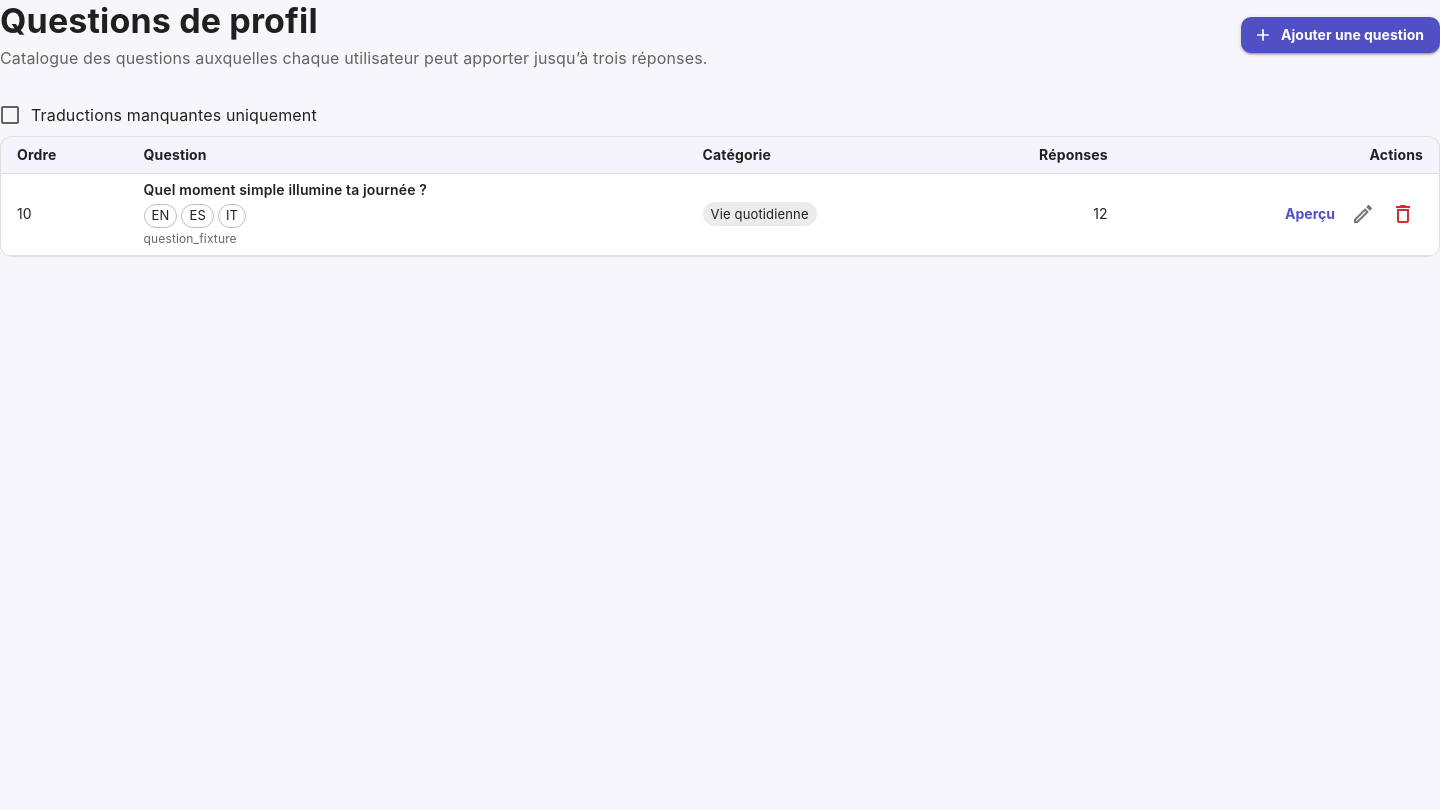
critical dashboard actions › shows the cascade impact before deleting a profile question
Click the button named "Supprimer Quel moment simple illumine ta journée ?". click: coordinates (1403, 214)
box: [1383,194,1423,234]
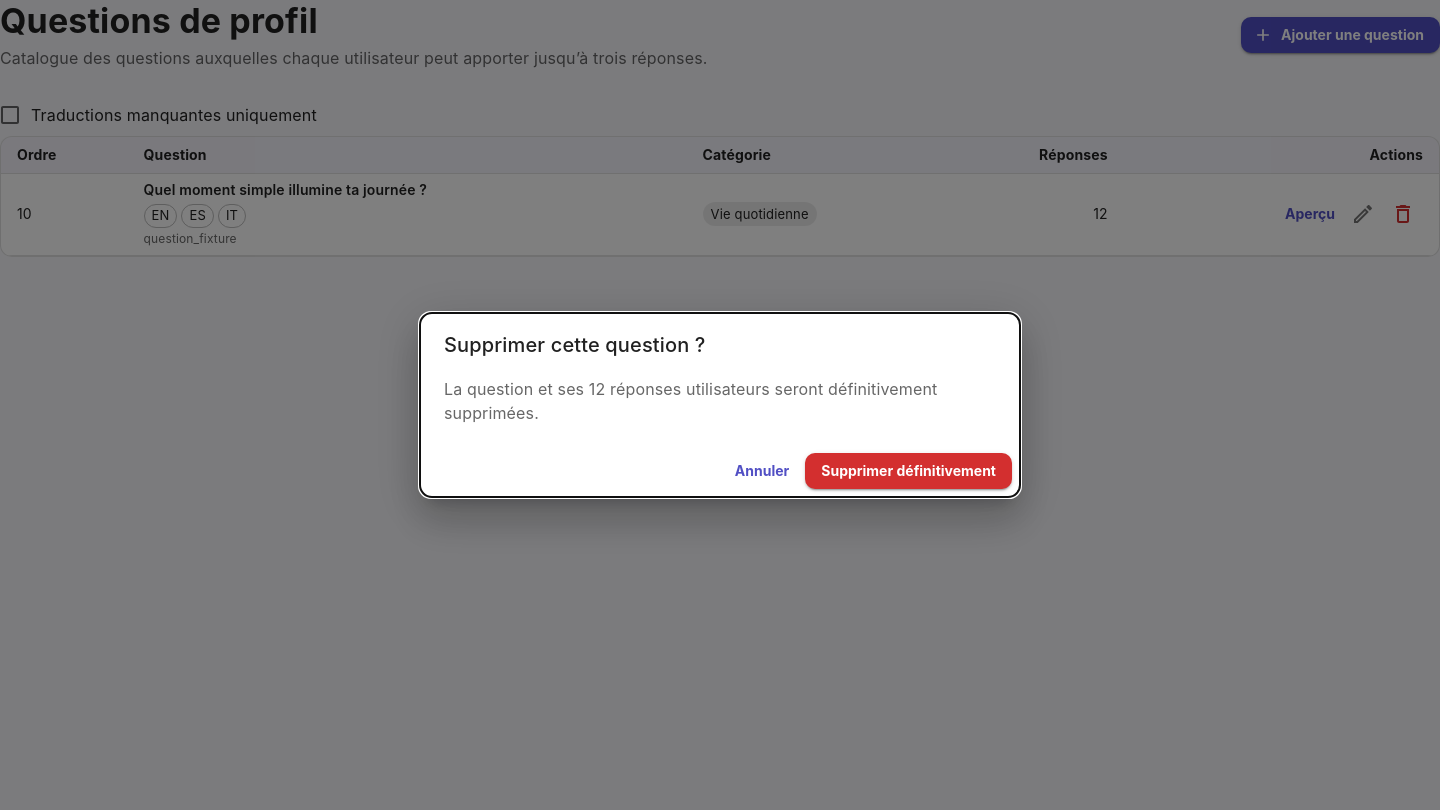
Result: the text "ses 12 réponses utilisateurs seront définitivement supprimées" is shown at [444,379,938,423]
Click the button "Supprimer définitivement". click: coordinates (909, 471)
box: [805,453,1012,489]
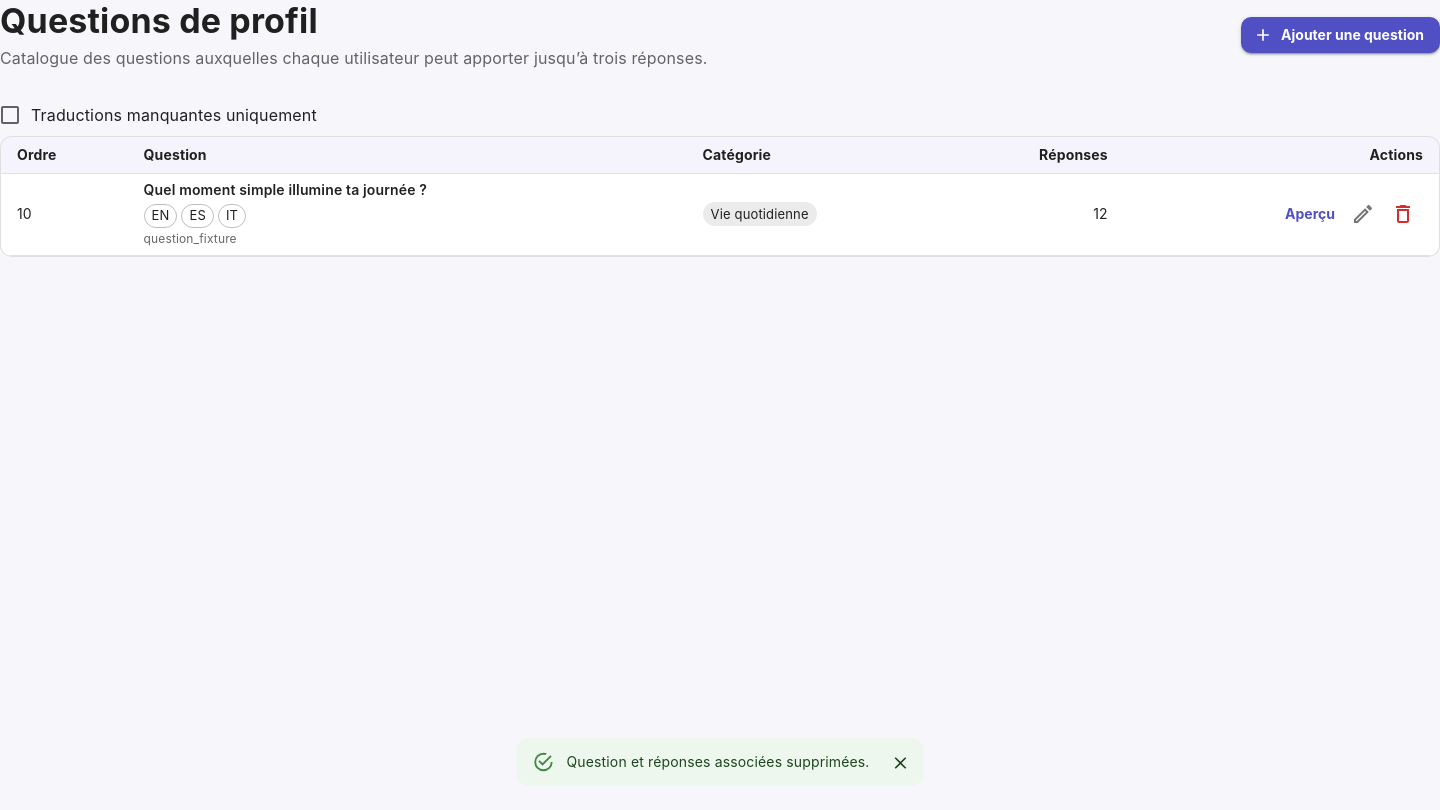
Result: the text "Question et réponses associées supprimées." is shown at [566,753,870,770]
